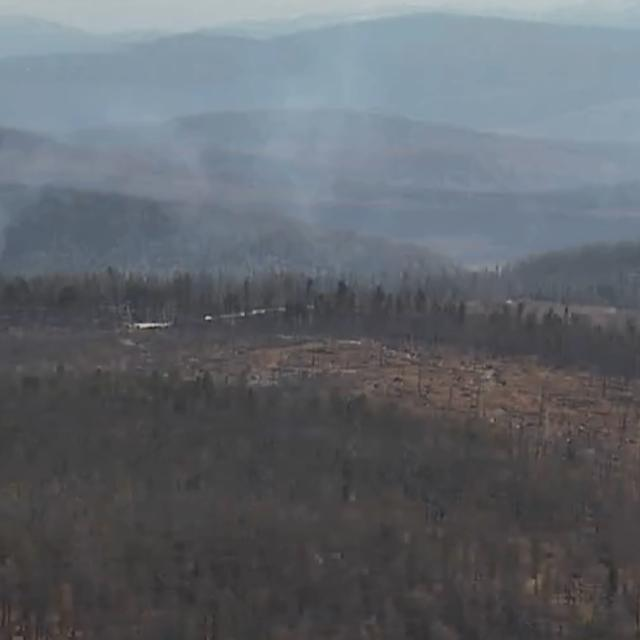Smoke: (0, 73, 640, 321)
